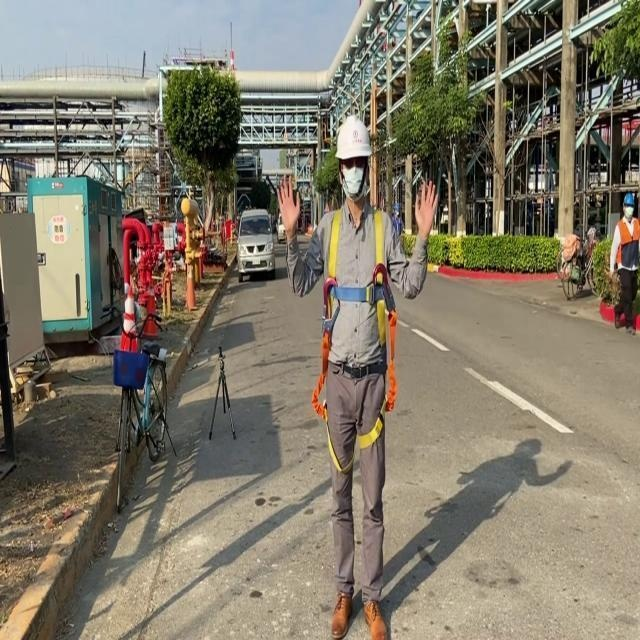Arnes_seguridad: (312, 206, 402, 451)
